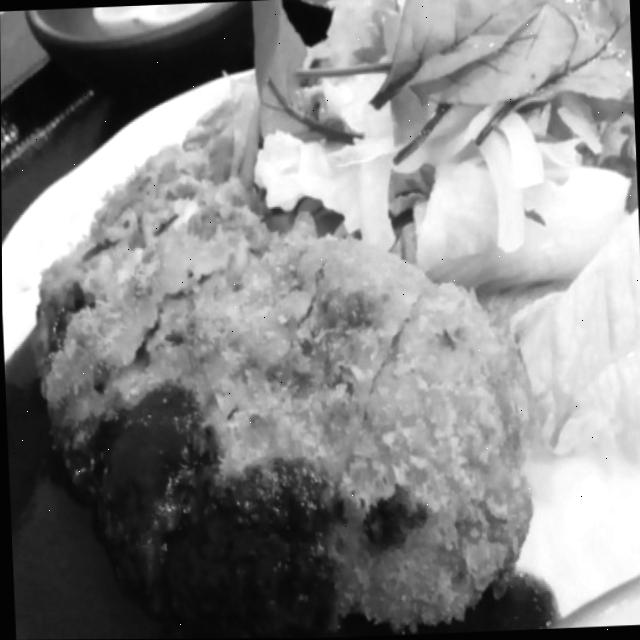炸货点心: (1, 129, 540, 640)
